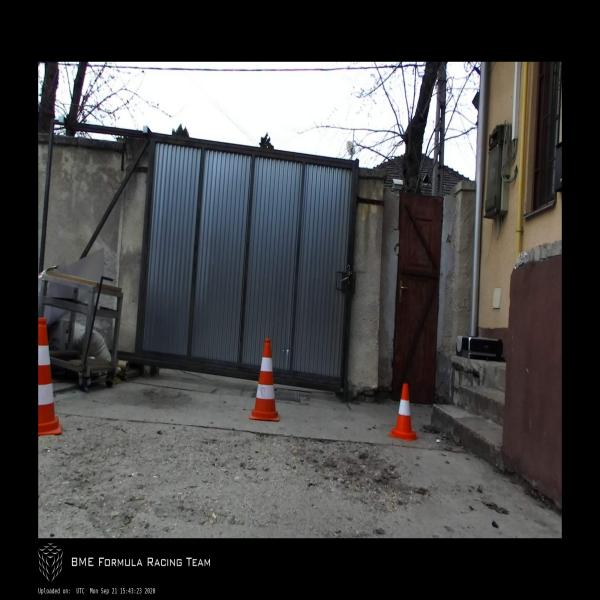large_orange_cone: (38, 317, 62, 436), (249, 338, 280, 422)
orange_cone: (388, 384, 419, 442)
